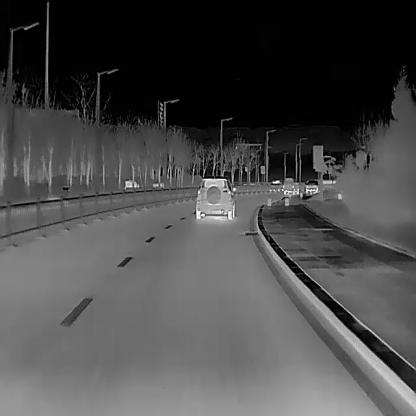car: (195, 176, 236, 218), (304, 179, 320, 193), (124, 180, 140, 188), (268, 179, 283, 186), (152, 182, 164, 188)
truck: (282, 177, 298, 193)
